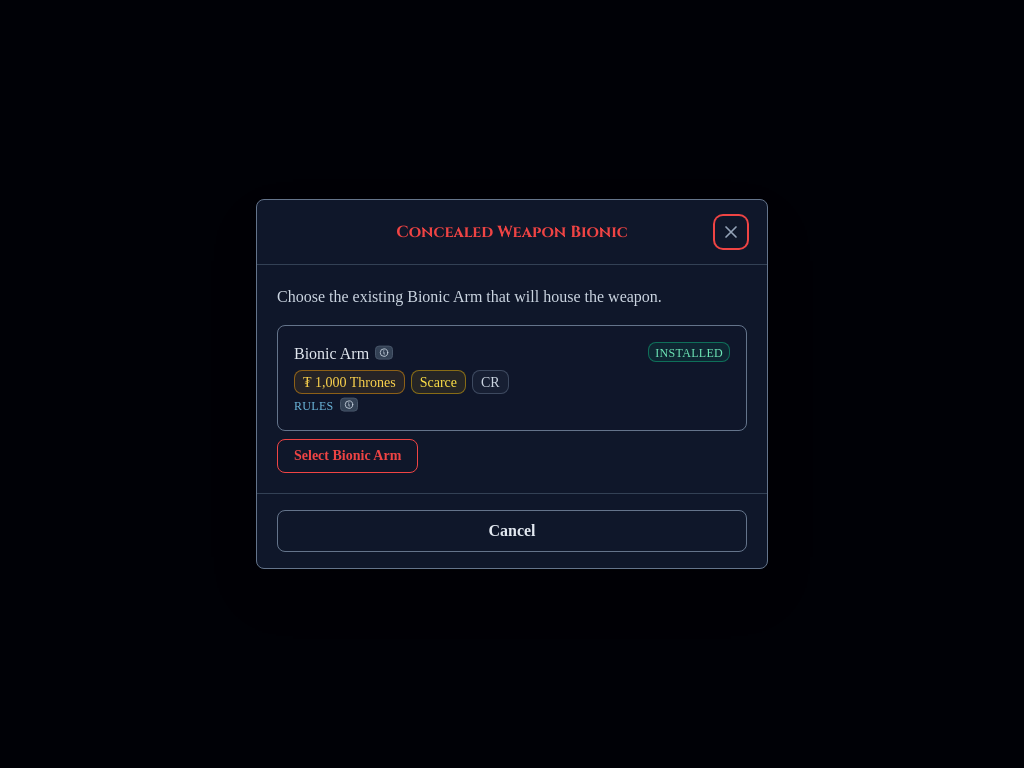
Test: ConcealedWeaponBionicInstaller › moves to weapon selection after choosing an arm, listing only eligible pistols
The width and height of the screenshot is (1024, 768).
Click the button "Select Bionic Arm".
click(348, 456)  # box [277,439,418,473]
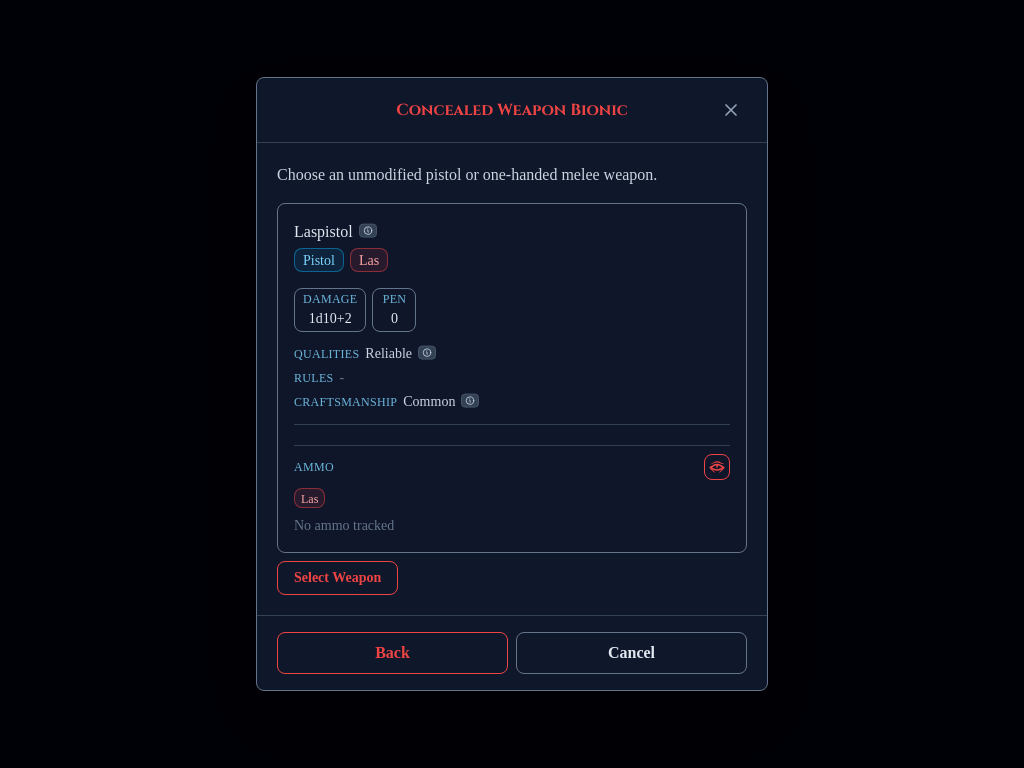
Expected: the text "Laspistol" is shown, [294,220,353,244]
